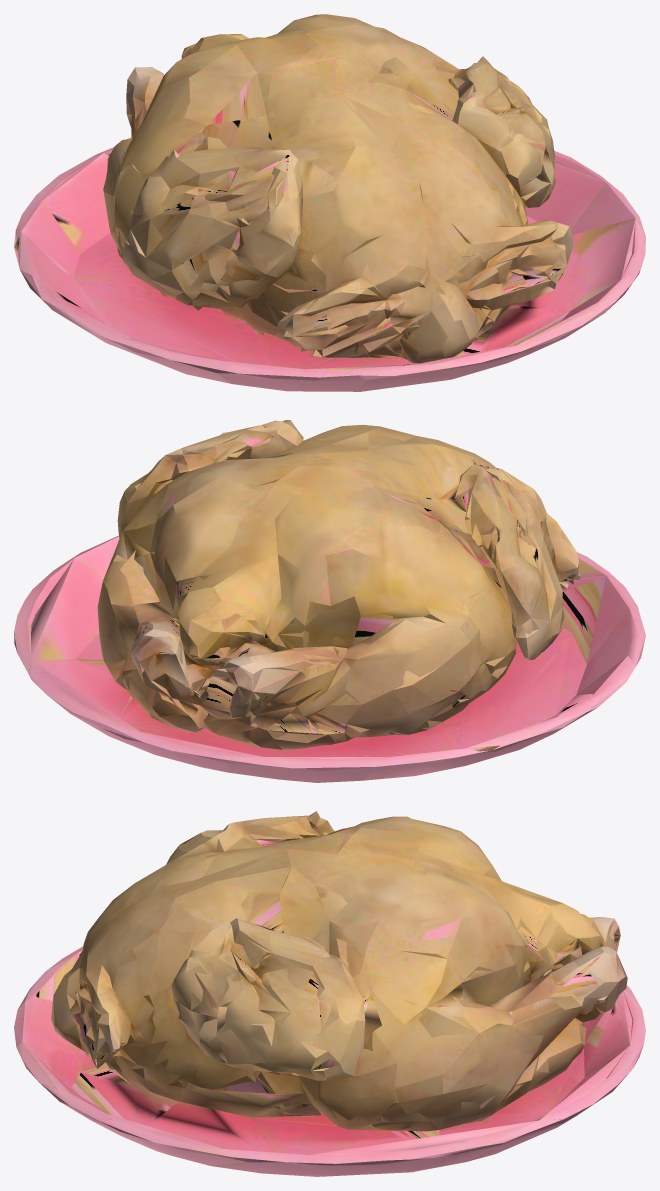
Rendered from w3chicken.glb.
3 renders of one model, top to bottom at view 1: azimuth 30°, elevation 25°; view 2: azimuth 150°, elevation 25°; view 3: azimuth 270°, elevation 25°, orthographic.
Parts seen in each view (by area): view 1: w3chicken_near, w3chicken_far; view 2: w3chicken_near, w3chicken_far; view 3: w3chicken_near, w3chicken_far.
Part boxes in pixels (x1=…): w3chicken_near: x1=14, y1=14, x2=645, y2=391; w3chicken_far: x1=14, y1=19, x2=635, y2=391; w3chicken_near: x1=14, y1=420, x2=645, y2=782; w3chicken_far: x1=29, y1=425, x2=637, y2=766; w3chicken_near: x1=14, y1=811, x2=645, y2=1176; w3chicken_far: x1=20, y1=818, x2=640, y2=1154.
Bounding box in the file's own units: 0.3 × 0.1178 × 0.3004.
Materials: 1 (1 with a texture image).
